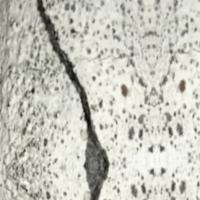crack: (24, 1, 134, 199)
